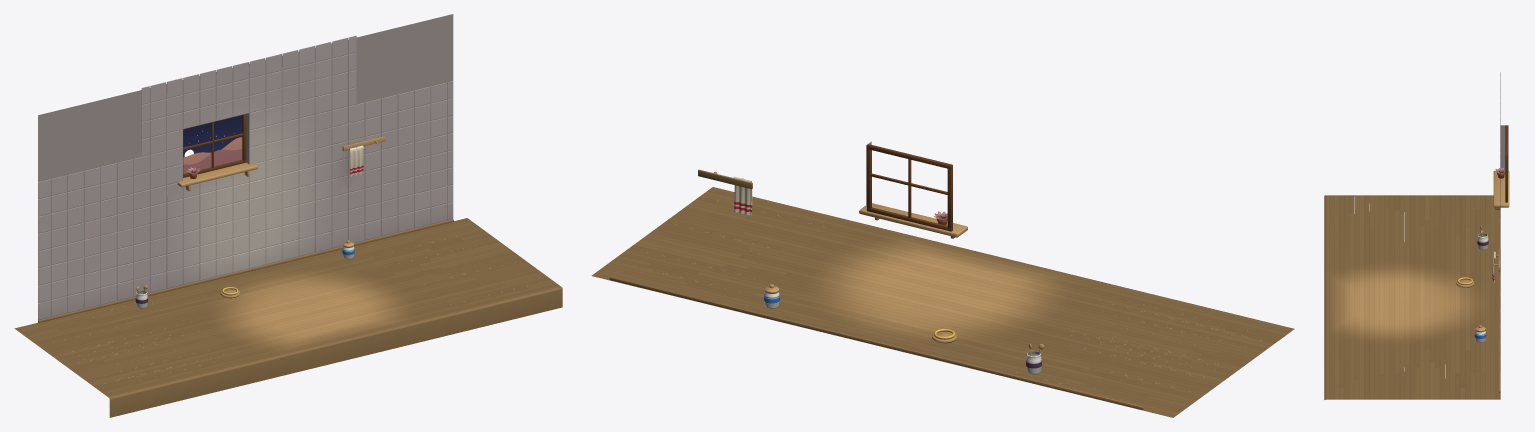
File: set.glb
3 renders of one model, left to right at view 1: azimuth 30°, elevation 25°; view 2: azimuth 150°, elevation 25°; view 3: azimuth 270°, elevation 25°, orthographic. The views are drawn at different scales.
Parts seen in each view (by area): view 1: set_wall_tile, set_table, set_wall_grout, set_window_sky_night, set_wall_cove, set_window_windowframe, set_window_wood, set_window_hills_near; view 2: set_table, set_wall_cove, set_window_windowframe, set_window_wood; view 3: set_table, set_window_wood, set_wall_cove, set_wall_plaster, set_wall_tile, set_window_windowframe.
Part boxes in pixels (<box>): set_wall_tile: <box>38,35,453,319</box>; set_table: <box>14,218,562,417</box>; set_wall_grout: <box>38,14,453,320</box>; set_window_sky_night: <box>183,115,242,157</box>; set_wall_cove: <box>38,219,453,322</box>; set_window_windowframe: <box>183,114,246,177</box>; set_window_wood: <box>177,162,257,191</box>; set_window_hills_near: <box>183,149,242,173</box>; set_table: <box>591,187,1294,417</box>; set_wall_cove: <box>609,277,1143,409</box>; set_window_windowframe: <box>867,144,952,231</box>; set_window_wood: <box>859,203,967,238</box>; set_table: <box>1324,195,1500,399</box>; set_window_wood: <box>1493,170,1509,209</box>; set_wall_cove: <box>1499,210,1500,392</box>; set_wall_plaster: <box>1500,125,1508,172</box>; set_wall_tile: <box>1500,72,1500,372</box>; set_window_windowframe: <box>1505,125,1507,202</box>.
Size of the model in its own units: 19.2 by 9.29 by 7.8.
